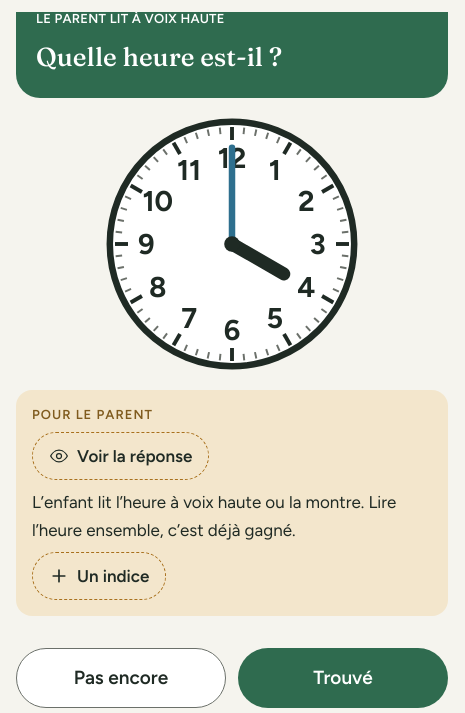
Quelle heure est-il ? › le parent lit la question, voit la réponse et valide
(page scrolled)
Expected: the element named "Question" shows "Quelle heure est-il ?", left=36, top=41, right=282, bottom=73
Expected: the picture named "Horloge à aiguilles" is shown, left=102, top=114, right=362, bottom=374
What coordinates should you click on to do the following:
click the button "Un indice"
I would click on:
 (99, 576)
Its box is left=32, top=552, right=166, bottom=600.
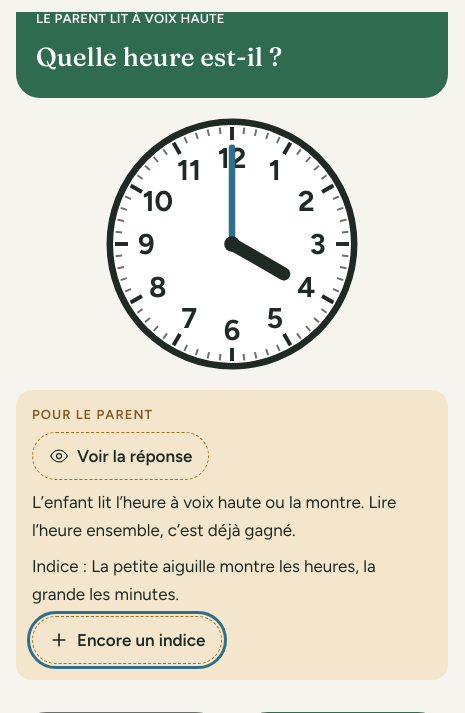
Result: the element "Pour le parent" shows "La petite aiguille montre les heures" at left=32, top=556, right=376, bottom=604
What coordinates should you click on to do the following:
click the button "Voir la réponse"
I would click on:
 (121, 456)
Its box is left=32, top=432, right=209, bottom=480.
(page scrolled)
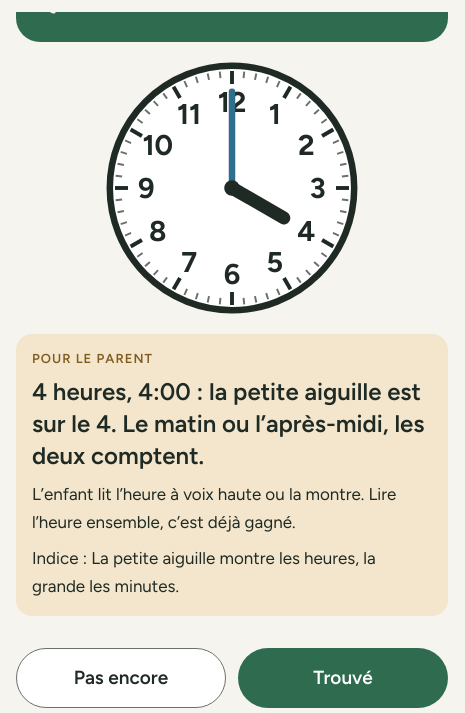
What coordinates should you click on to do the following:
click the button "Trouvé"
I would click on:
 (343, 678)
Its box is left=238, top=648, right=448, bottom=708.
(page scrolled)
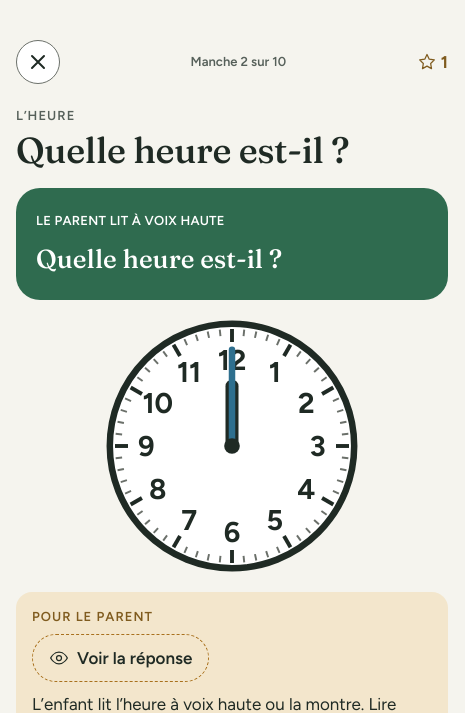
Result: the text "Manche 2 sur 10" is shown at left=191, top=53, right=286, bottom=71
Result: the element named "1 étoile" is shown at left=417, top=48, right=448, bottom=76
